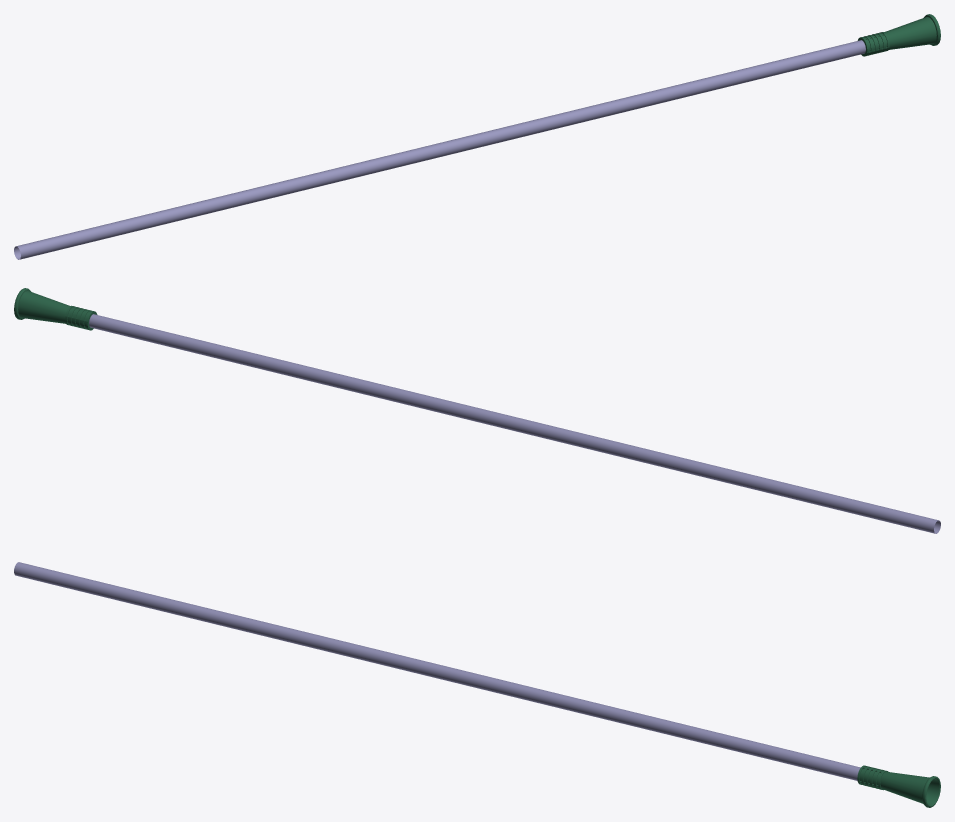
Rendered from Ongthongdaday.fbx.
3 renders of one model, top to bottom at view 1: azimuth 30°, elevation 25°; view 2: azimuth 150°, elevation 25°; view 3: azimuth 330°, elevation 25°, orthographic.
Visible parts, largest first — view 1: DayOngthongdaday, Dauongthongdaday; view 2: DayOngthongdaday, Dauongthongdaday; view 3: DayOngthongdaday, Dauongthongdaday.
Part boxes in pixels (left/top/right/bottom): DayOngthongdaday: left=14, top=40, right=865, bottom=259; Dauongthongdaday: left=857, top=14, right=940, bottom=56; DayOngthongdaday: left=89, top=314, right=940, bottom=533; Dauongthongdaday: left=14, top=288, right=97, bottom=330; DayOngthongdaday: left=14, top=562, right=860, bottom=780; Dauongthongdaday: left=857, top=765, right=940, bottom=807.
Bounding box in the file's own units: 42.5 × 1.31 × 1.31.
Materials: 1 (1 with a texture image).
